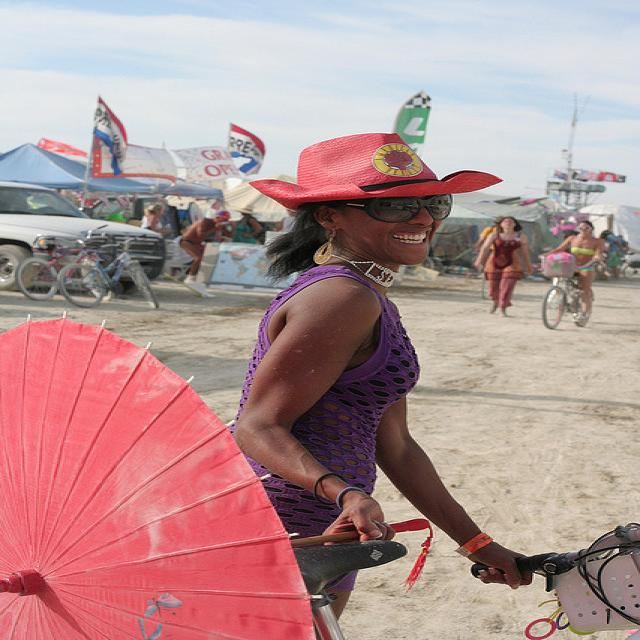Vehicle: (1, 180, 168, 293)
